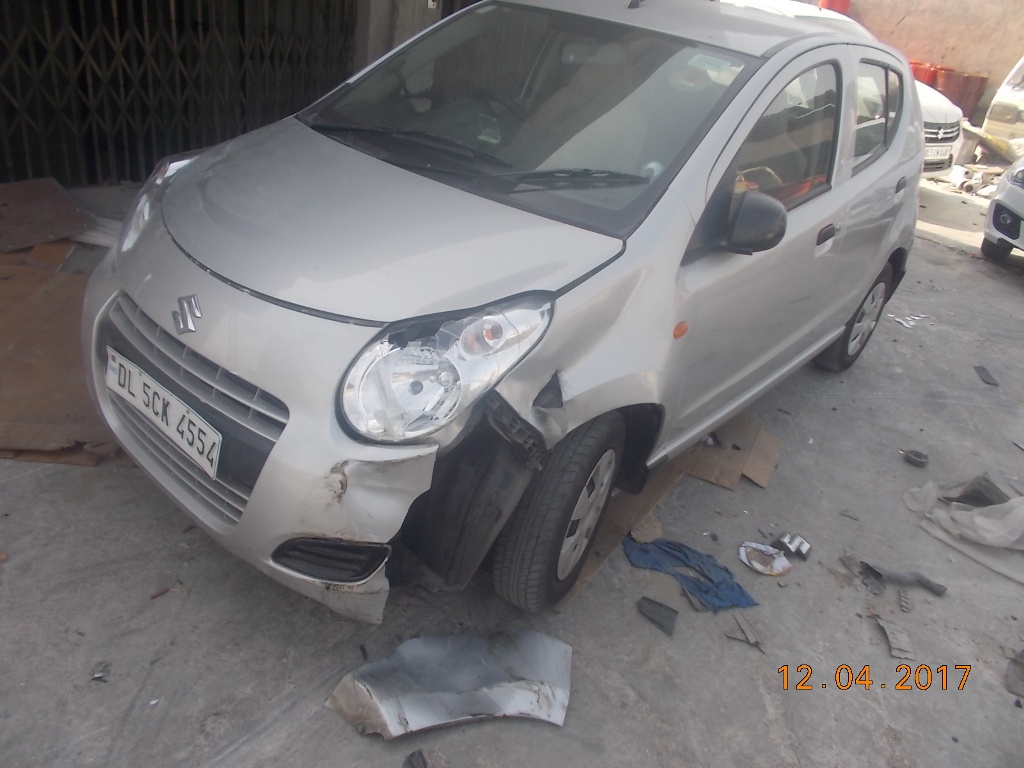Dent: (573, 282, 666, 382)
Large_tear_or_damage: (372, 371, 570, 641)
